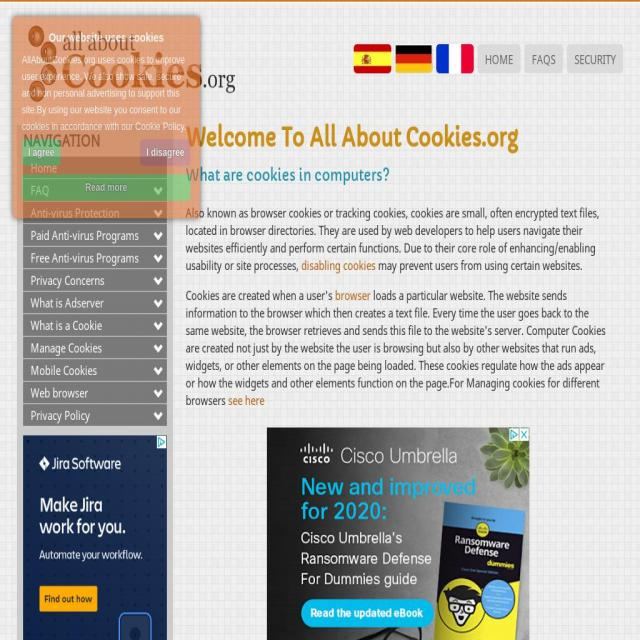navigation-links: (22, 153, 172, 437), (345, 38, 629, 85)
